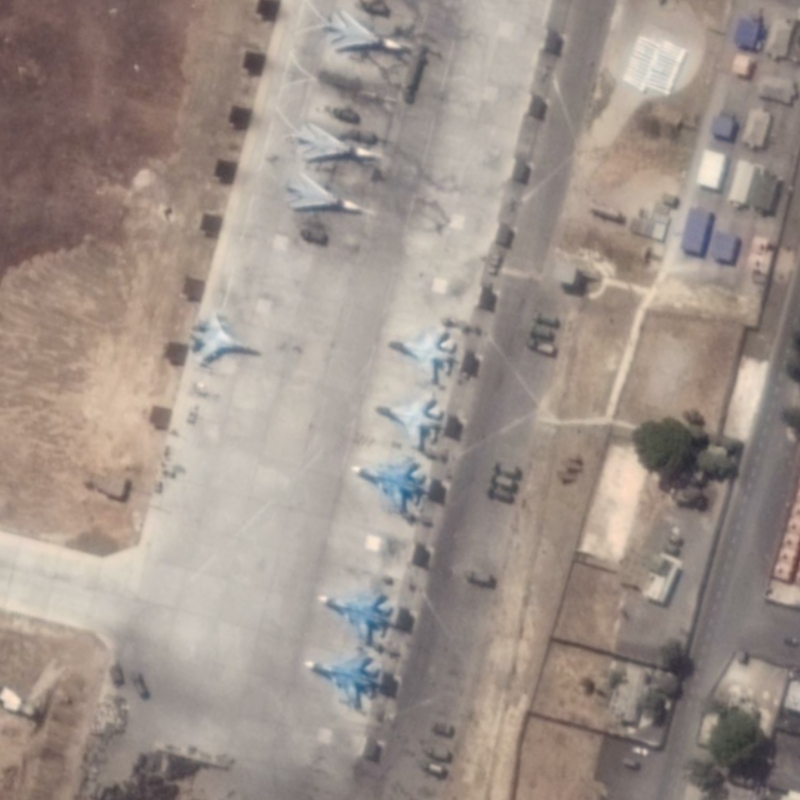A1: (371, 390, 446, 450), (187, 310, 263, 368), (388, 325, 459, 384)
A19: (303, 652, 384, 712), (349, 456, 429, 516), (315, 589, 396, 646)
A20: (327, 7, 403, 52), (284, 171, 362, 213), (294, 121, 375, 160)
